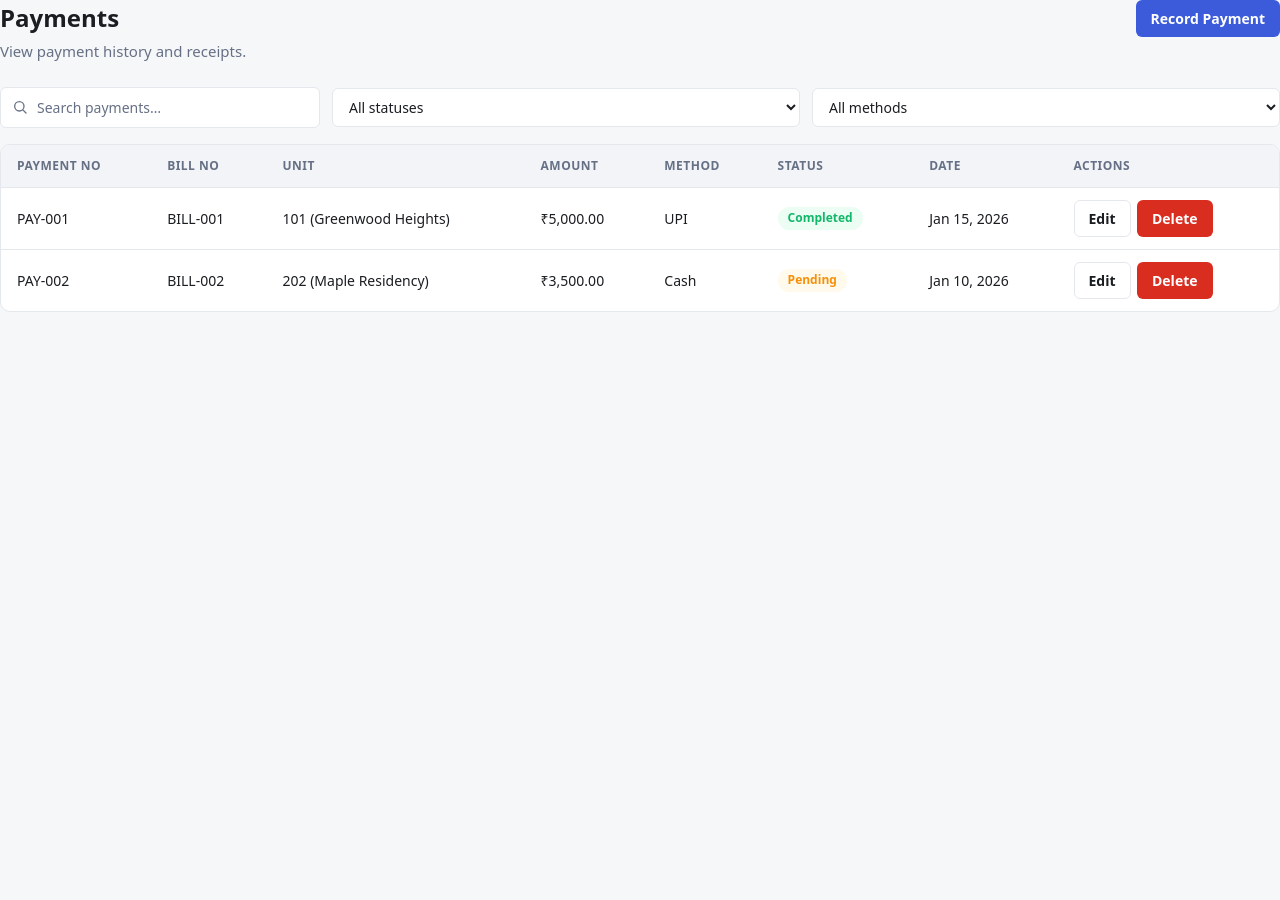
Test case: PaymentsPage CRUD functionality › validates required fields in create modal
Expected: the text "PAY-001" is shown, 1,187 -> 151,249
Click the button "Record Payment" at {"x": 1208, "y": 18}, box 1136,0 -> 1279,37
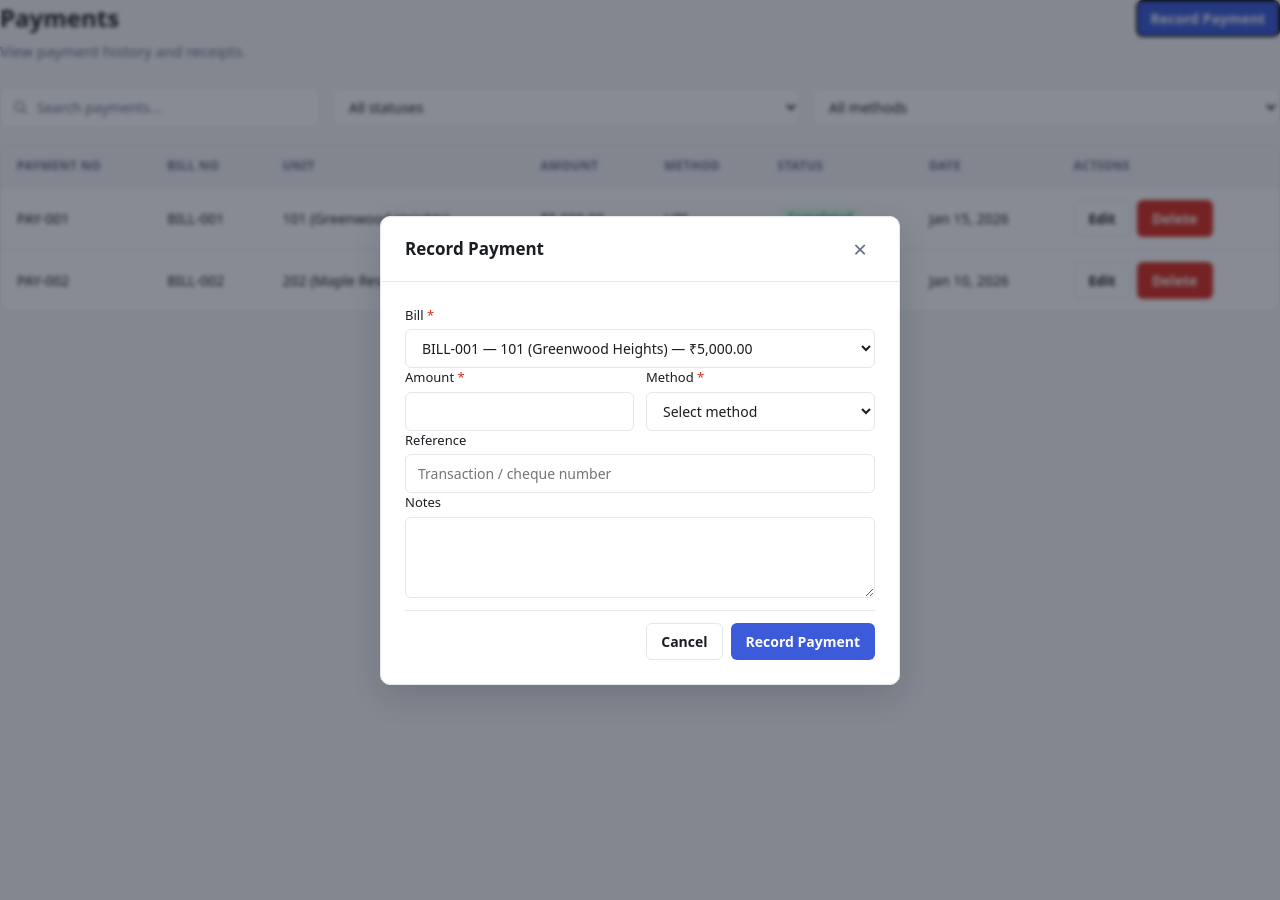
Click the button "Record Payment" at {"x": 803, "y": 641}, box 730,622 -> 875,660
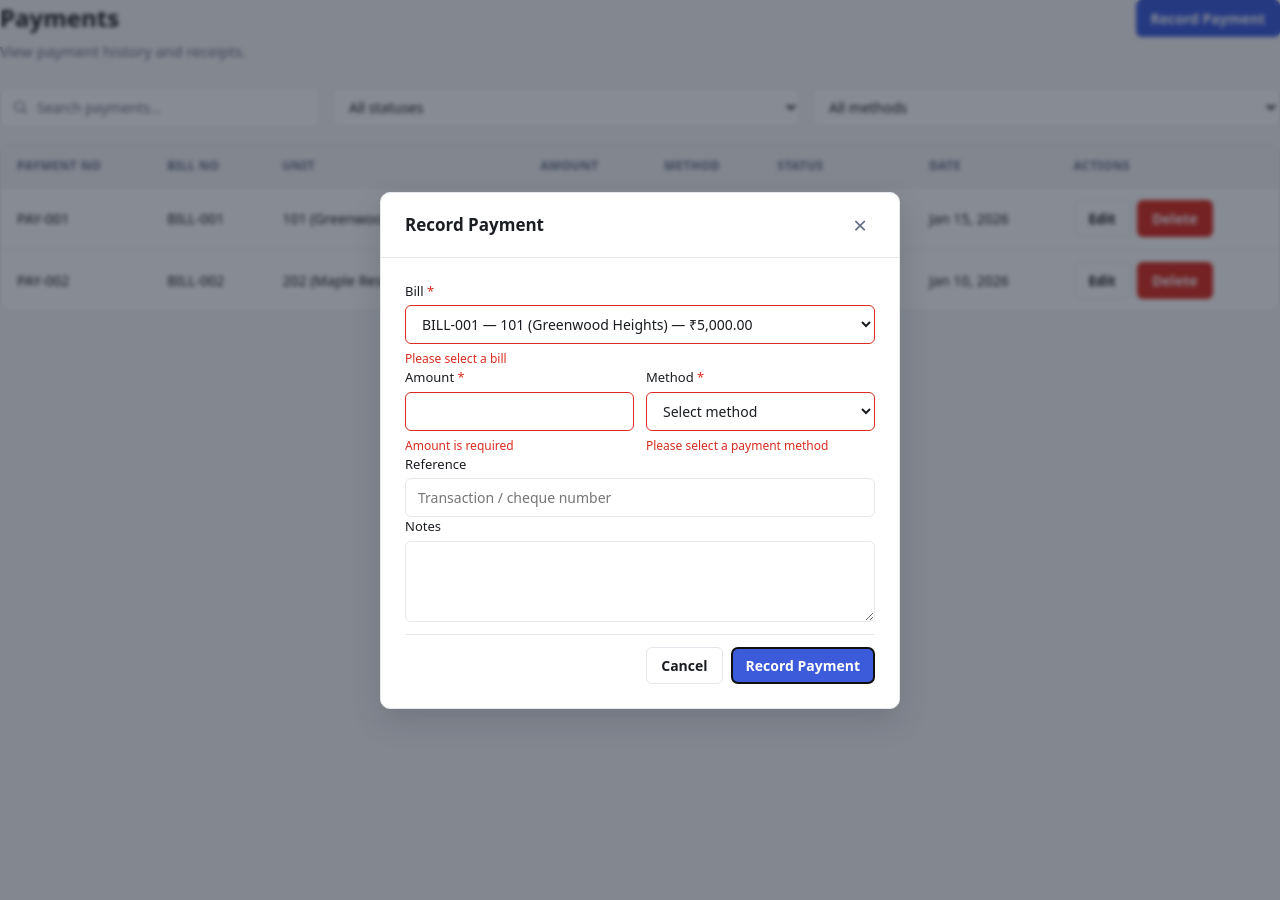
Expected: the text "Please select a bill" is shown, 405,350 -> 507,367
